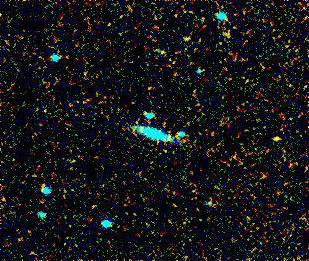star: (268, 124, 298, 154)
